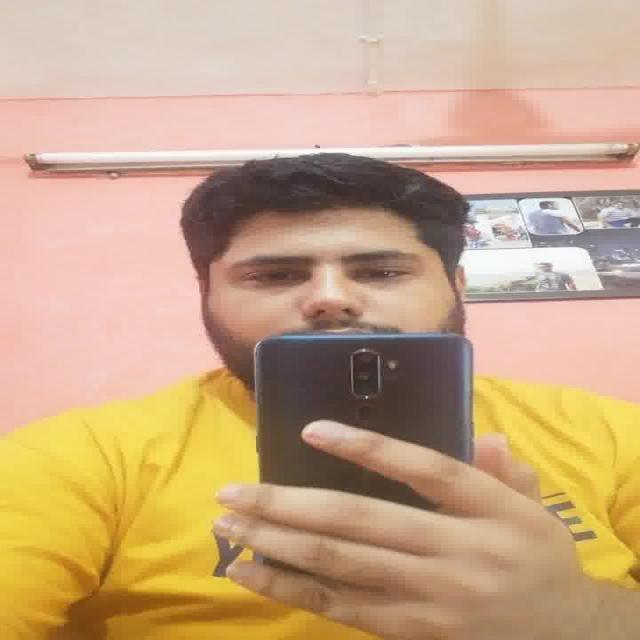Phone: (250, 331, 474, 493)
